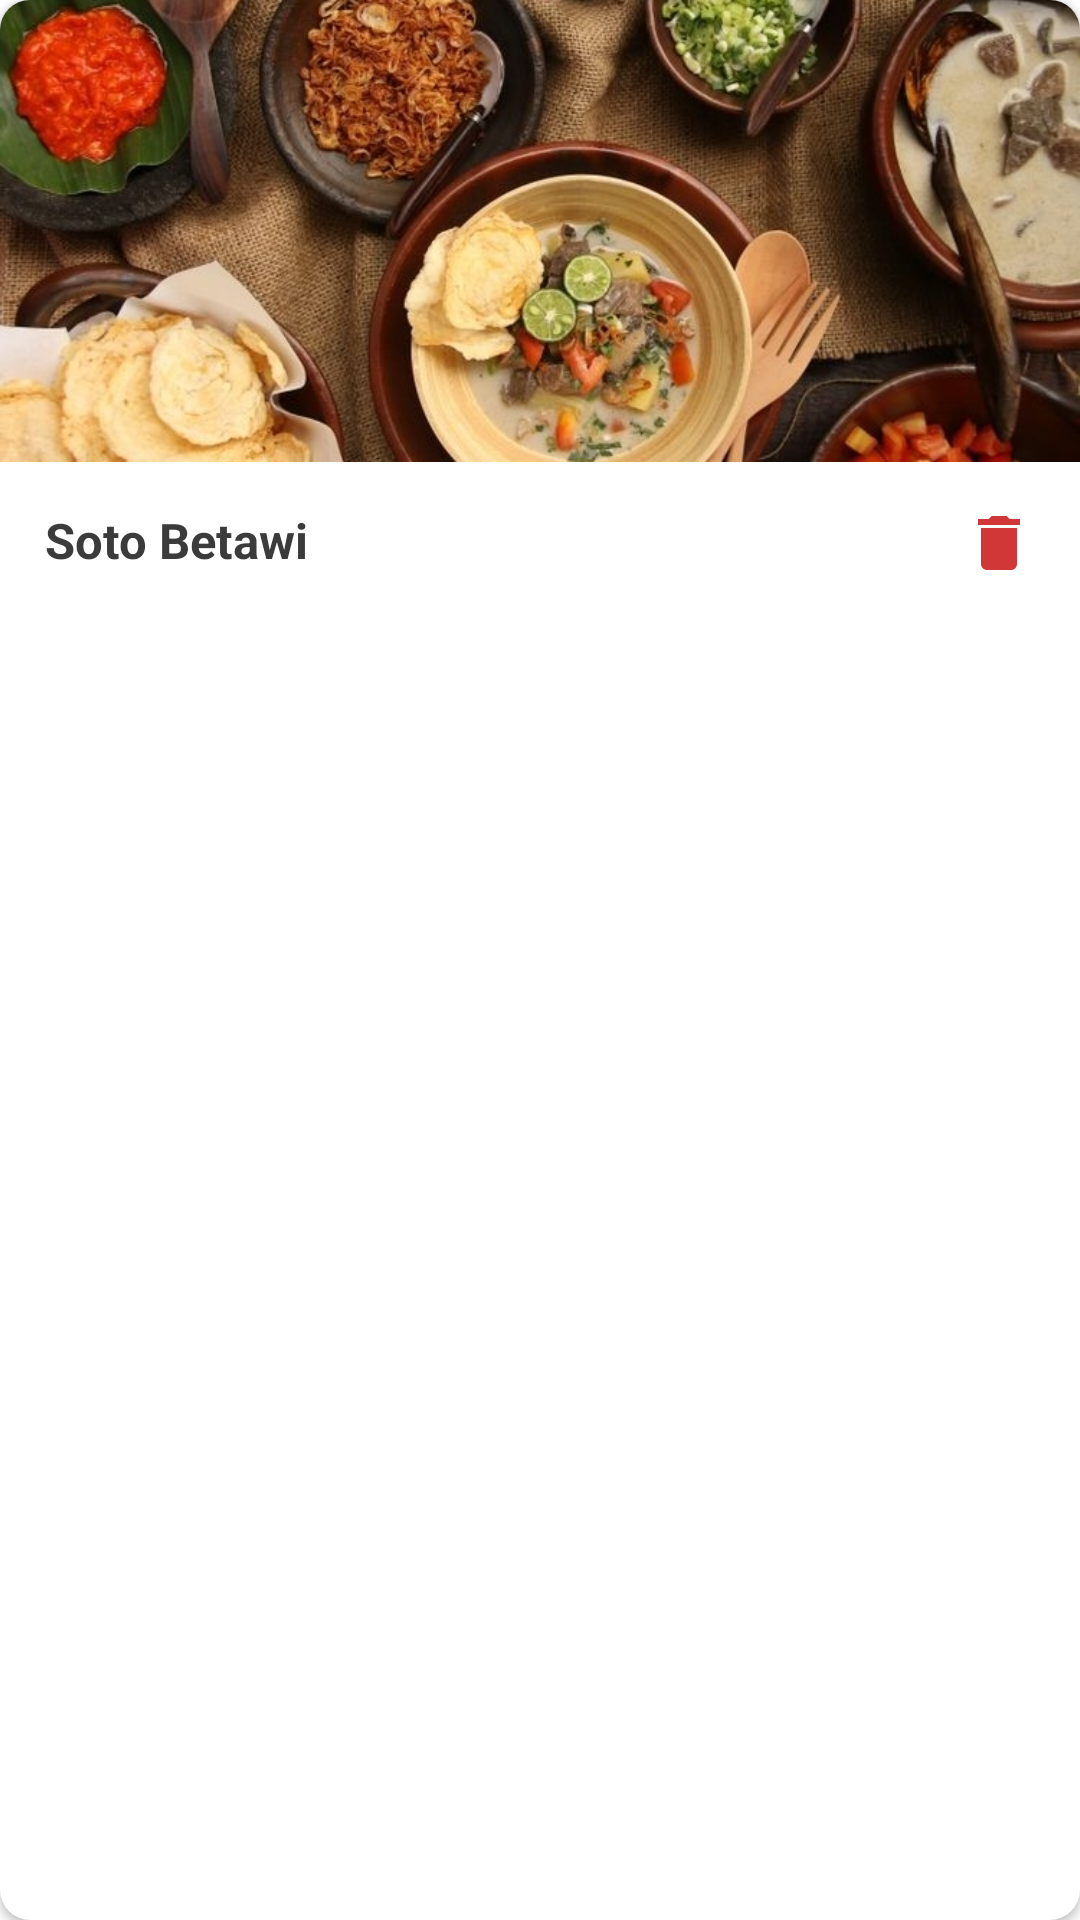

Locate icon controls on the screen. Image size 1080px x 1920px, boxes as (x1, y1, x2, y2).
delete: (978, 516, 1020, 570)
